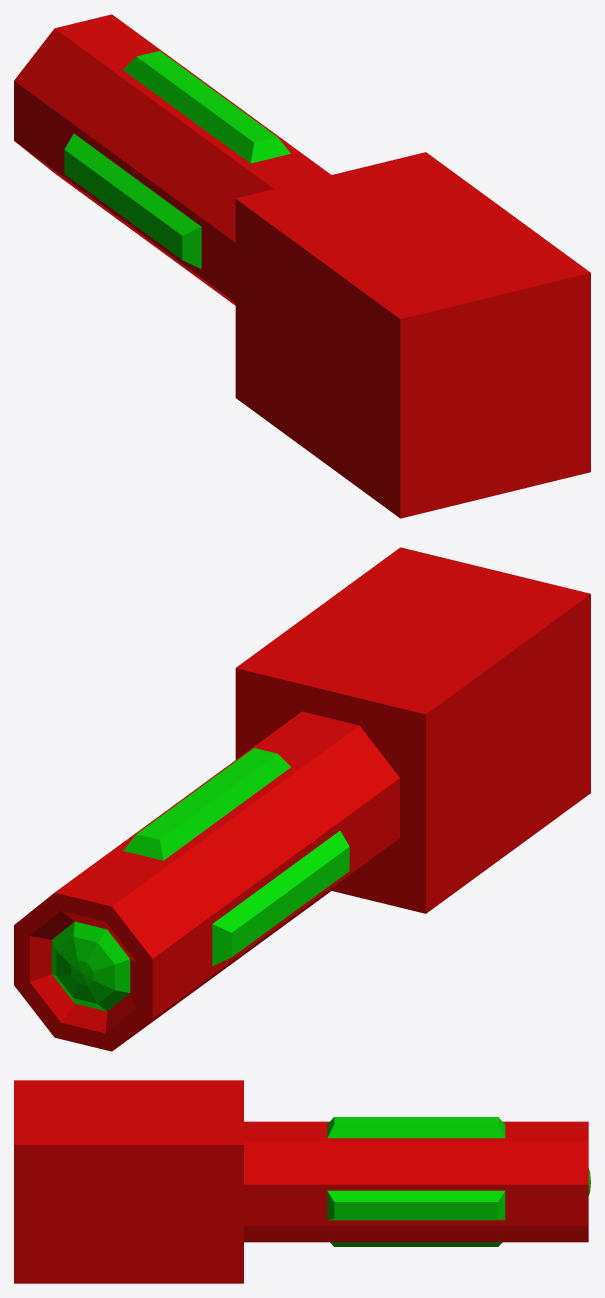
The model's file is beam_laser-small.glb.
3 views of the same model, one above another, from view 1: azimuth 30°, elevation 25°; view 2: azimuth 150°, elevation 25°; view 3: azimuth 270°, elevation 25° (orthographic). The views are drawn at different scales.
Parts seen in each view (by area): view 1: WeaponModel; view 2: WeaponModel; view 3: WeaponModel.
Part boxes in pixels (<box>): WeaponModel: <box>14,14,590,518</box>; WeaponModel: <box>14,547,590,1051</box>; WeaponModel: <box>14,1080,590,1283</box>.
Size of the model in its own units: 0.8 by 0.8 by 3.01.
